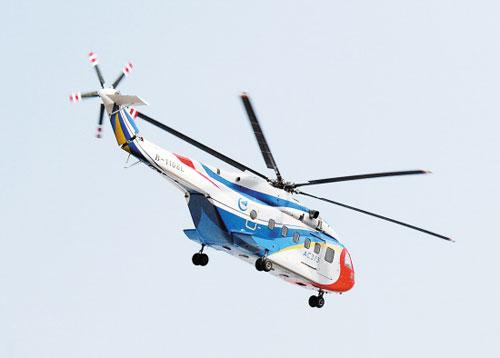airplane: (57, 47, 459, 308)
